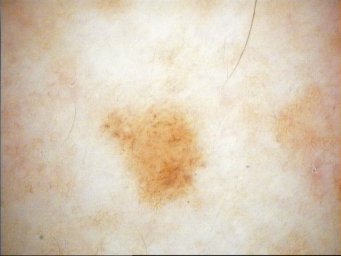nevus: (103, 114, 203, 205)
